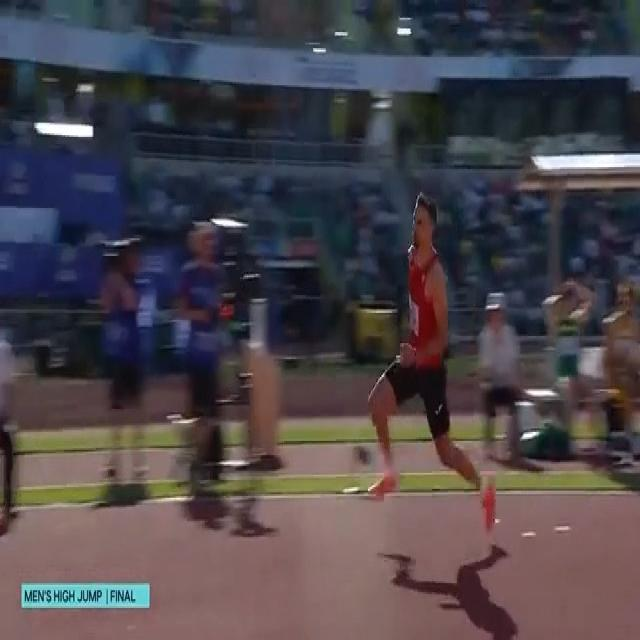run: (360, 192, 498, 534)
